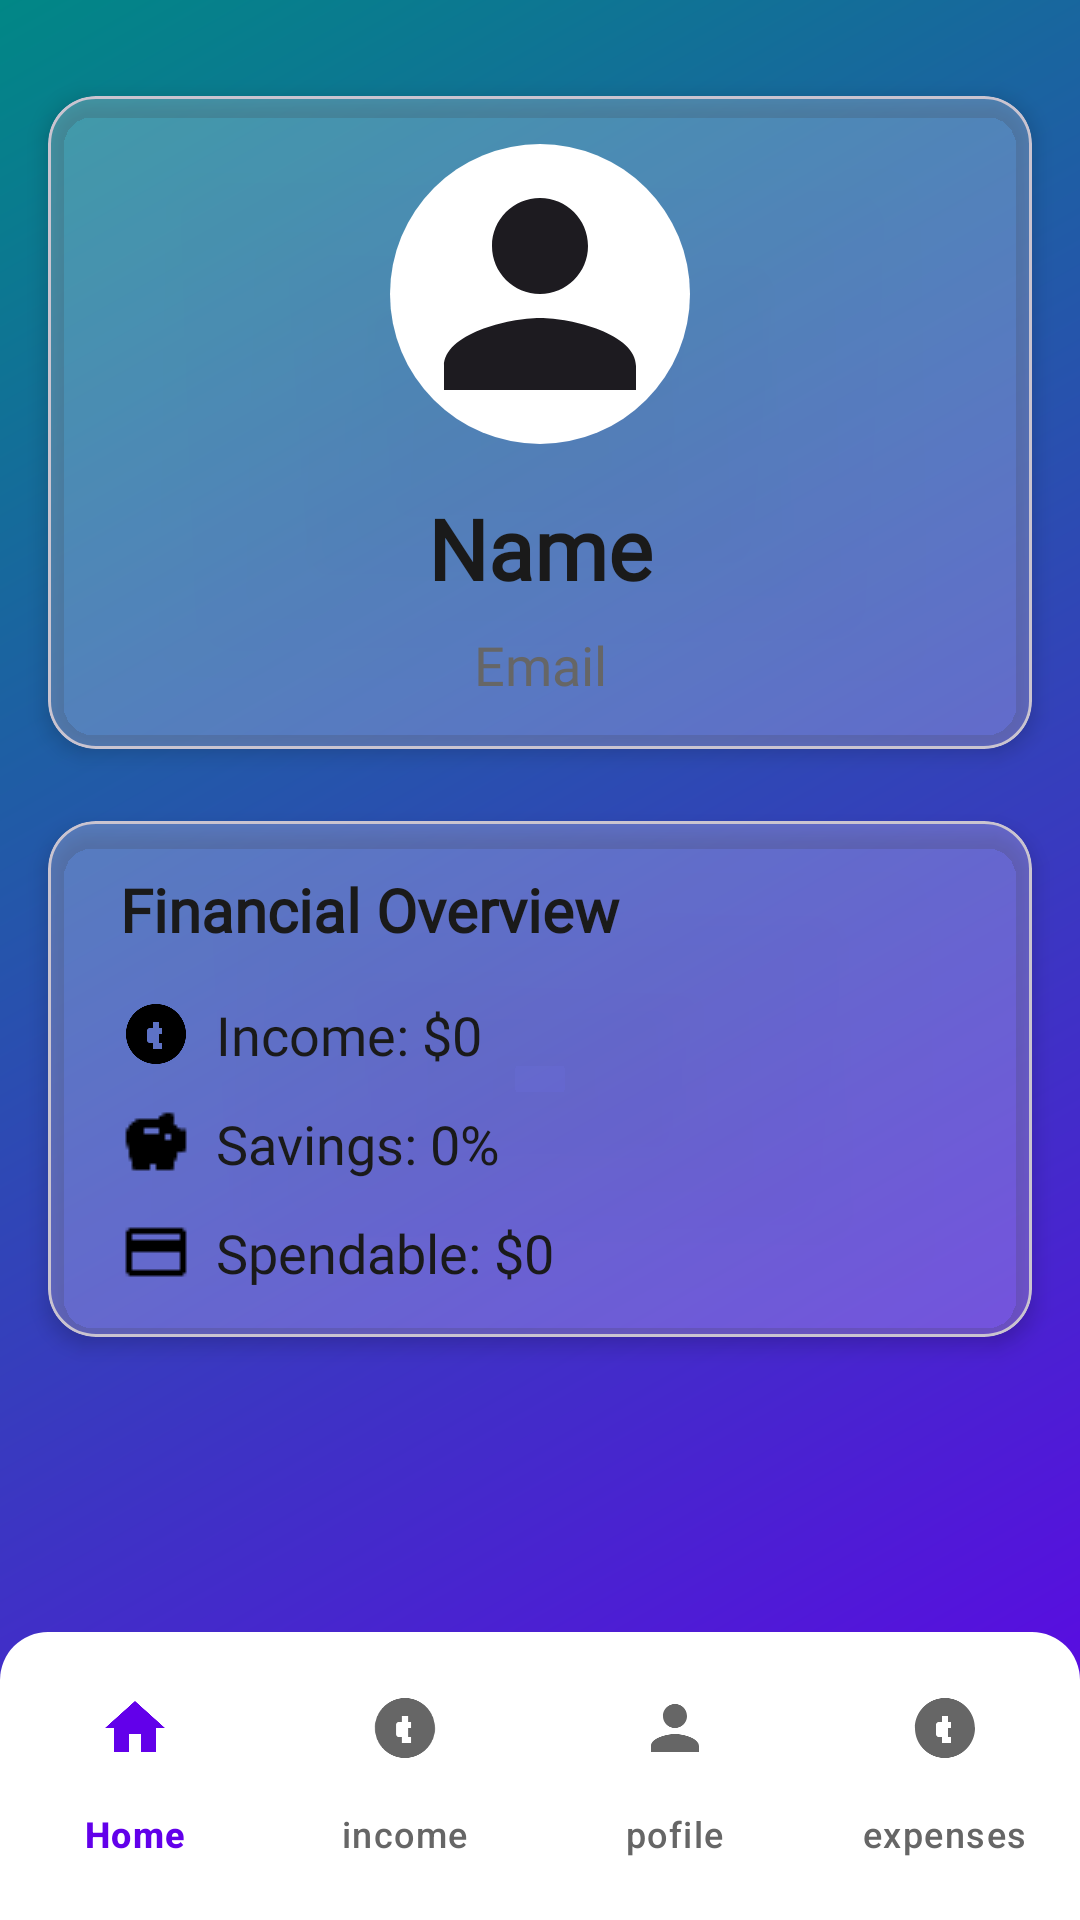

Where icons sit on this 1080w x 1920h app screen, as (x1=x1, y1=y1, x2=x2, y2=y2):
Profile Picture: (x1=390, y1=144, x2=690, y2=444)
